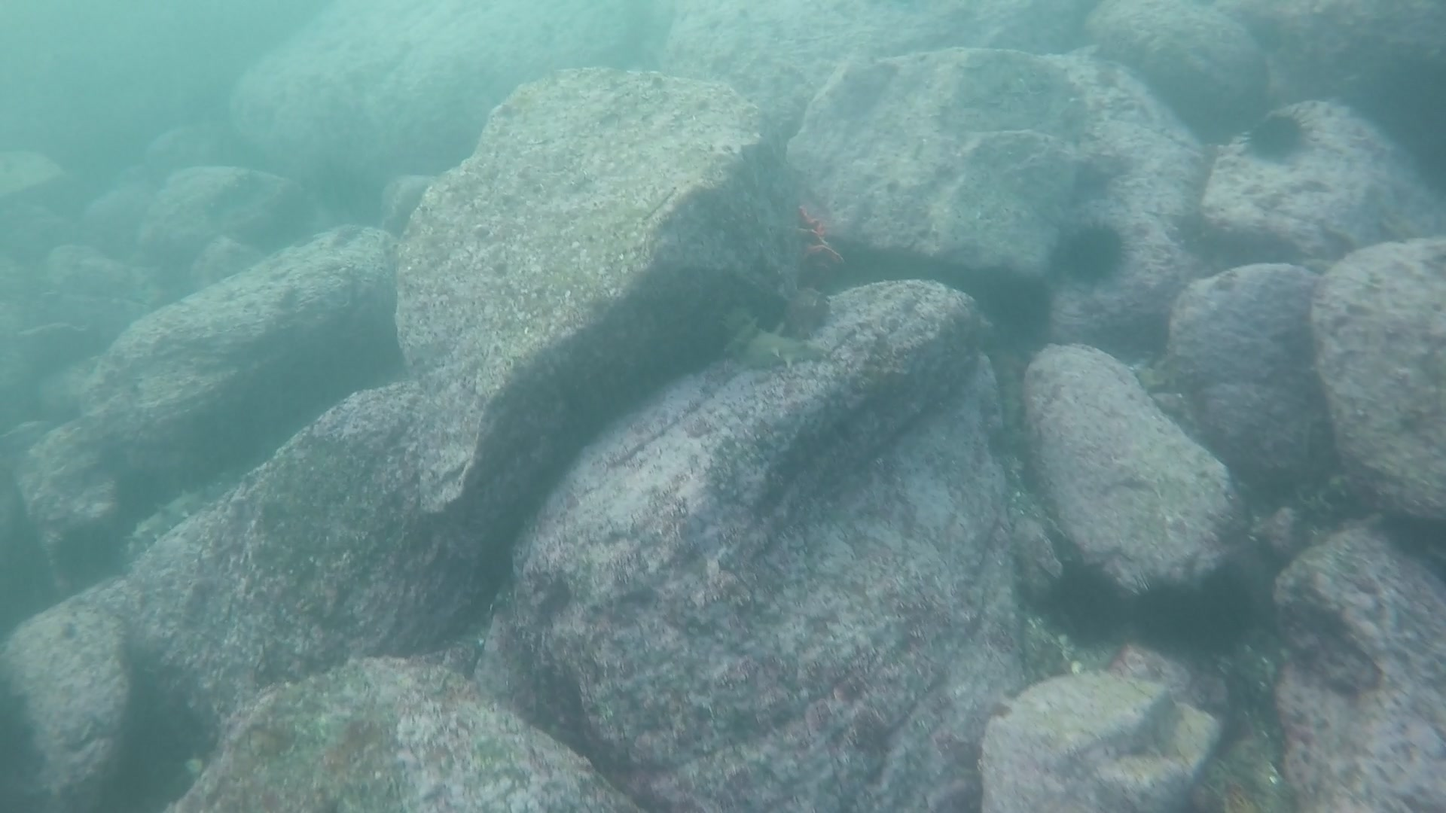echinus: (115, 463, 255, 552), (723, 312, 825, 376)
starfish: (1042, 560, 1133, 644), (1185, 578, 1257, 655), (1136, 577, 1205, 653), (1235, 105, 1316, 165), (1059, 215, 1124, 279)
